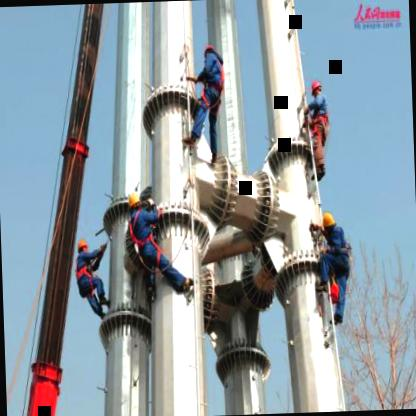helmet: (320, 206, 342, 241), (308, 76, 326, 102), (74, 234, 92, 259), (128, 186, 142, 214)
